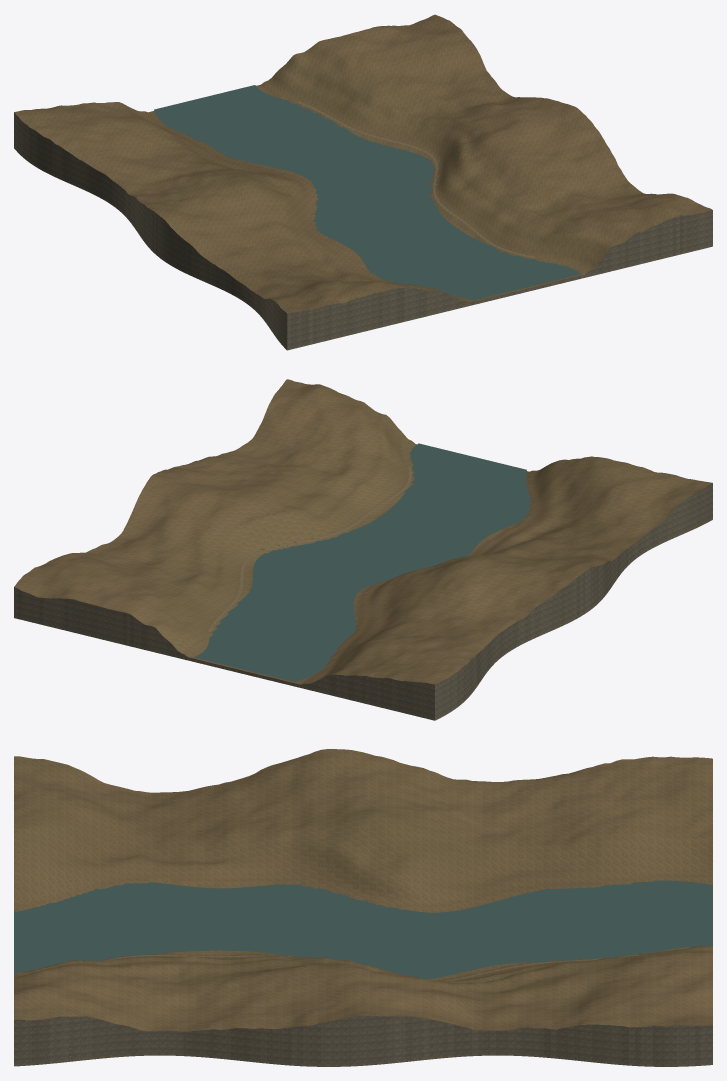
File: ch02_xiangjiang_crossing.glb
3 renders of one model, top to bottom at view 1: azimuth 30°, elevation 25°; view 2: azimuth 150°, elevation 25°; view 3: azimuth 270°, elevation 25°, orthographic. The views are drawn at different scales.
Visible parts, largest first — view 1: terrain__eroded_landscape, water_placeholder__river_waterline, terrain_boundary__closed_earth_boundary, bank_path__bank_path; view 2: terrain__eroded_landscape, water_placeholder__river_waterline, terrain_boundary__closed_earth_boundary, bank_path__bank_path; view 3: terrain__eroded_landscape, water_placeholder__river_waterline, terrain_boundary__closed_earth_boundary, bank_path__bank_path.
Boxes of the visible parts, <box> form: terrain__eroded_landscape: <box>14,14,712,313</box>; water_placeholder__river_waterline: <box>154,85,580,300</box>; terrain_boundary__closed_earth_boundary: <box>14,112,712,350</box>; bank_path__bank_path: <box>297,101,535,258</box>; terrain__eroded_landscape: <box>14,379,712,684</box>; water_placeholder__river_waterline: <box>194,443,531,681</box>; terrain_boundary__closed_earth_boundary: <box>14,483,712,720</box>; bank_path__bank_path: <box>208,467,411,631</box>; terrain__eroded_landscape: <box>14,749,712,1031</box>; water_placeholder__river_waterline: <box>14,880,712,979</box>; terrain_boundary__closed_earth_boundary: <box>14,1015,712,1066</box>; bank_path__bank_path: <box>103,954,638,980</box>.
Size of the model in its own units: 313 by 29.48 by 350.
Materials: 6 (5 with a texture image).
